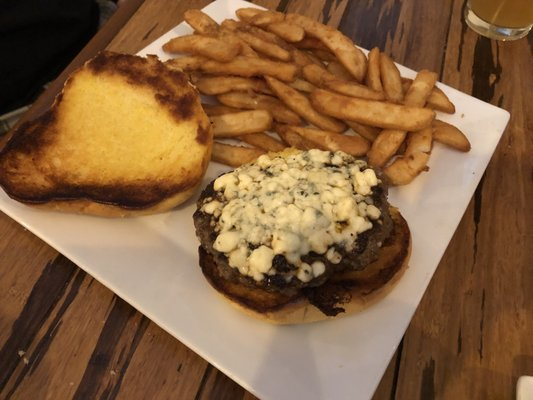soup: (192, 147, 411, 321), (0, 51, 214, 216)
